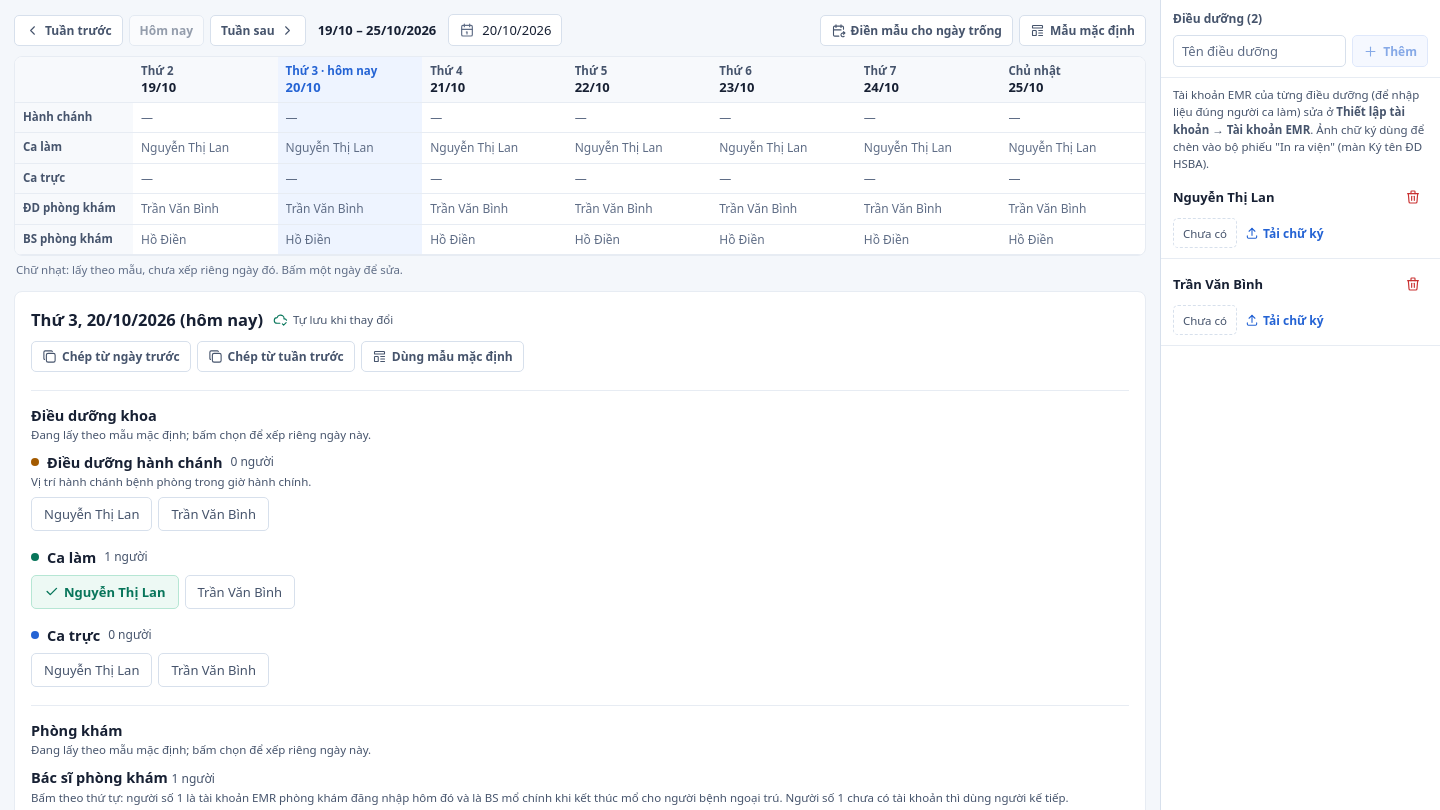
Test case: NurseTab (Lịch làm việc) › Tuần sau / Hôm nay chuyển tuần và giữ cùng thứ
This screenshot has width=1440, height=810.
Click the button with aria-label "Tuần sau".
click(258, 30)  # box [210,14,306,46]
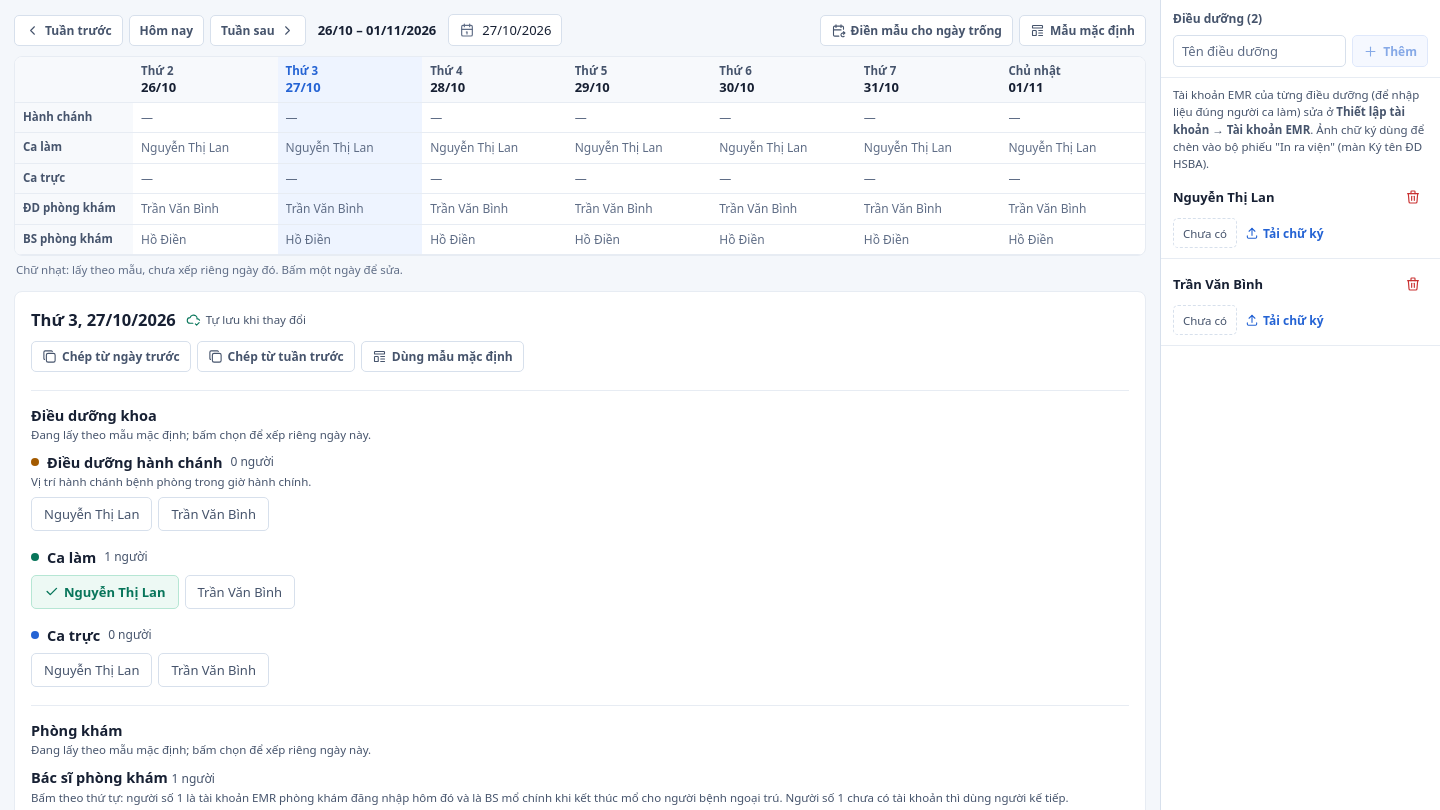
Click the button "Hôm nay".
click(166, 30)  # box [129,14,204,46]
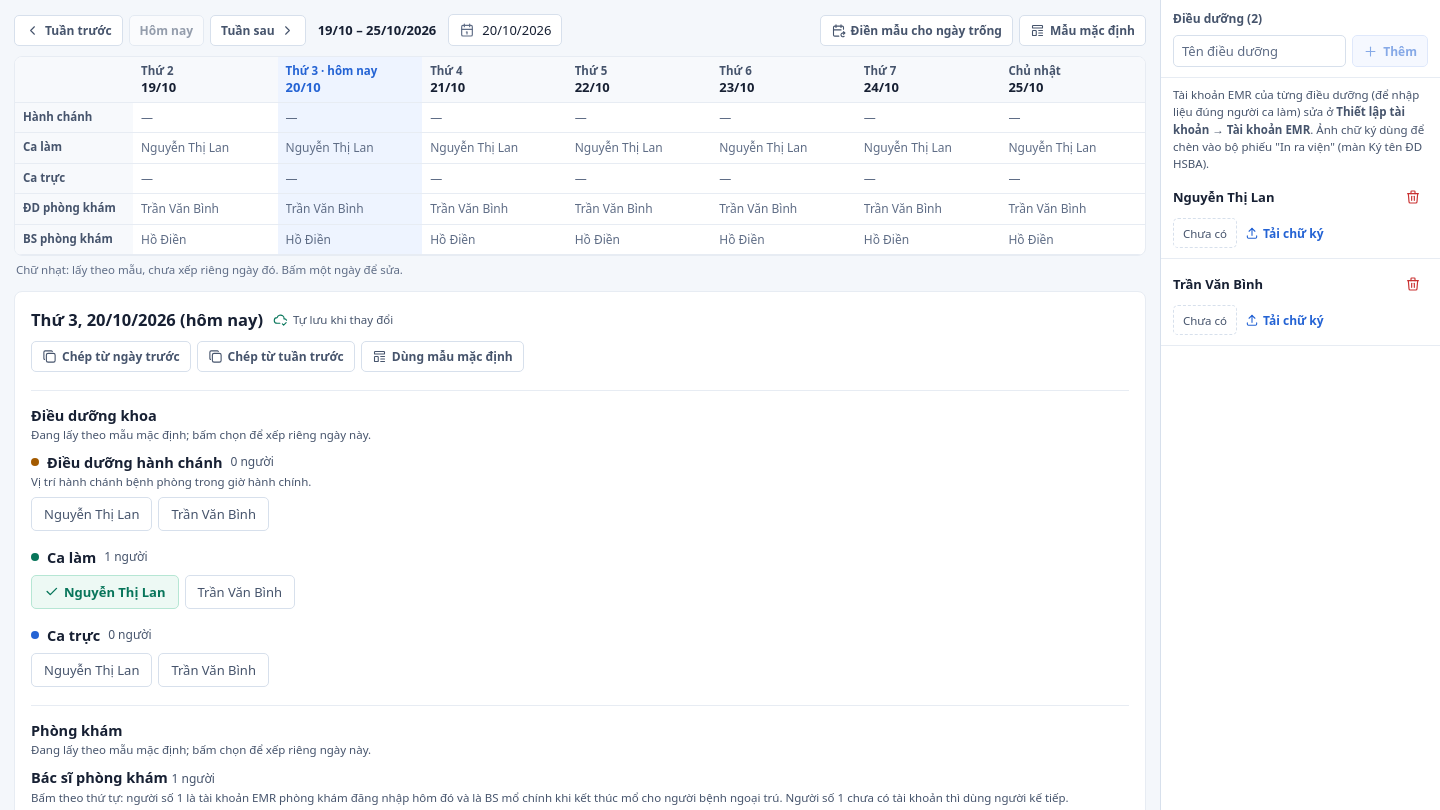
Result: the heading "Thứ 3, 20/10/2026 (hôm nay)" is shown at [31,308,263,331]
